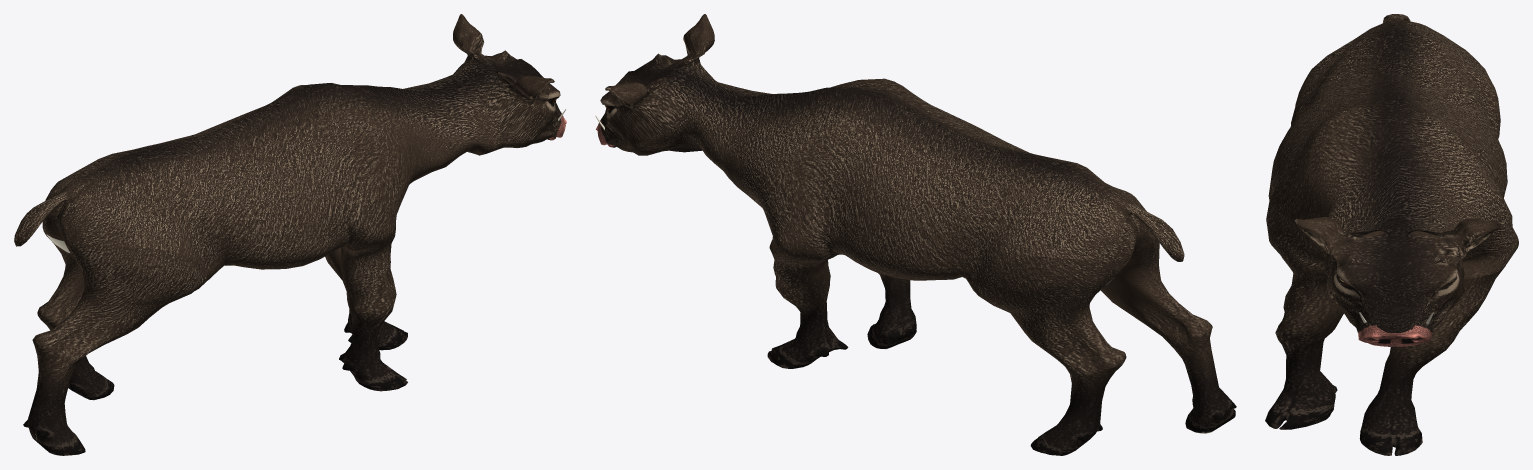
The model's file is boar.glb.
3 views of the same model, side by side, from view 1: azimuth 30°, elevation 25°; view 2: azimuth 150°, elevation 25°; view 3: azimuth 270°, elevation 25° (orthographic). The views are drawn at different scales.
Visible parts, largest first — view 1: IndianWildBoar; view 2: IndianWildBoar; view 3: IndianWildBoar.
Part boxes in pixels (box(x1,y1,x2,y2)): IndianWildBoar: box(14, 14, 566, 455); IndianWildBoar: box(595, 14, 1236, 455); IndianWildBoar: box(1265, 14, 1518, 455).
Bounding box in the file's own units: 4.73 × 2.18 × 1.65.
1 material, 1 textured.
